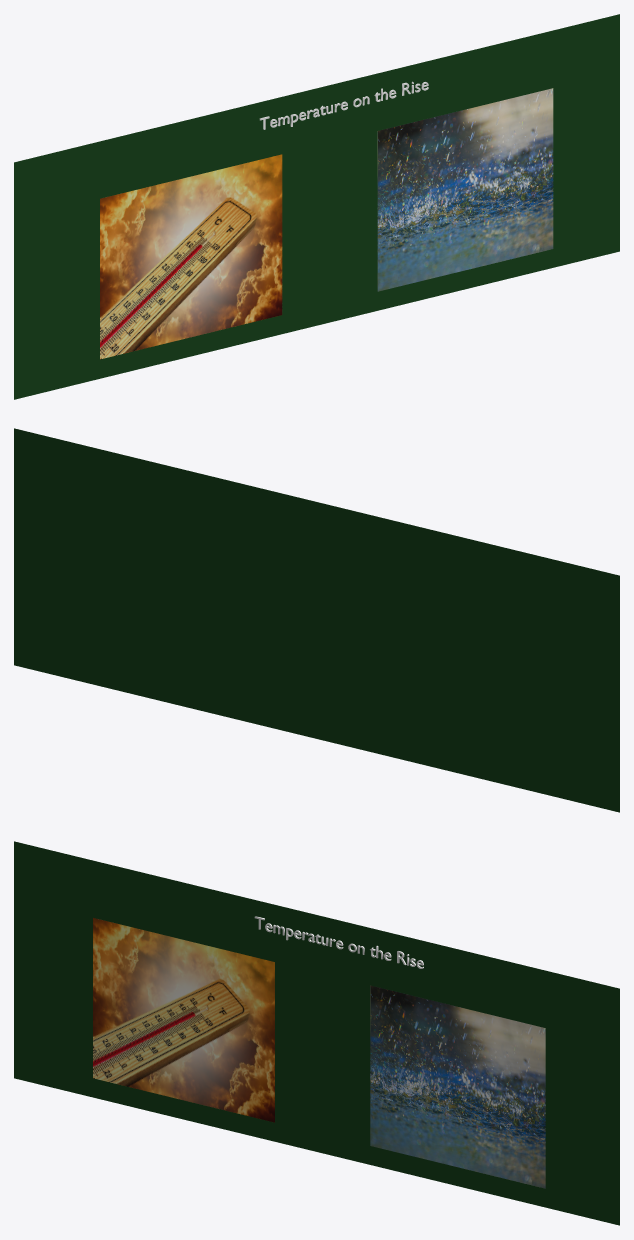
Rendered from cons3.gltf.
3 views of the same model, one above another, from view 1: azimuth 30°, elevation 25°; view 2: azimuth 150°, elevation 25°; view 3: azimuth 330°, elevation 25° (orthographic).
Parts seen in each view (by area): view 1: Plane.013, Plane, Plane.001, Text.008; view 2: Plane.013; view 3: Plane.013, Plane, Plane.001, Text.008.
Boxes of the visible parts, x1,y1,x2,y2 form: Plane.013: (14,14,619,399); Plane: (100,154,282,359); Plane.001: (377,88,553,291); Text.008: (259,81,428,129); Plane.013: (14,428,619,812); Plane.013: (14,841,619,1225); Plane: (93,918,274,1122); Plane.001: (370,985,545,1188); Text.008: (254,916,423,968).
Size of the model in its own units: 15.94 by 5.96 by 0.1767.
Materials: 4 (2 with a texture image).
